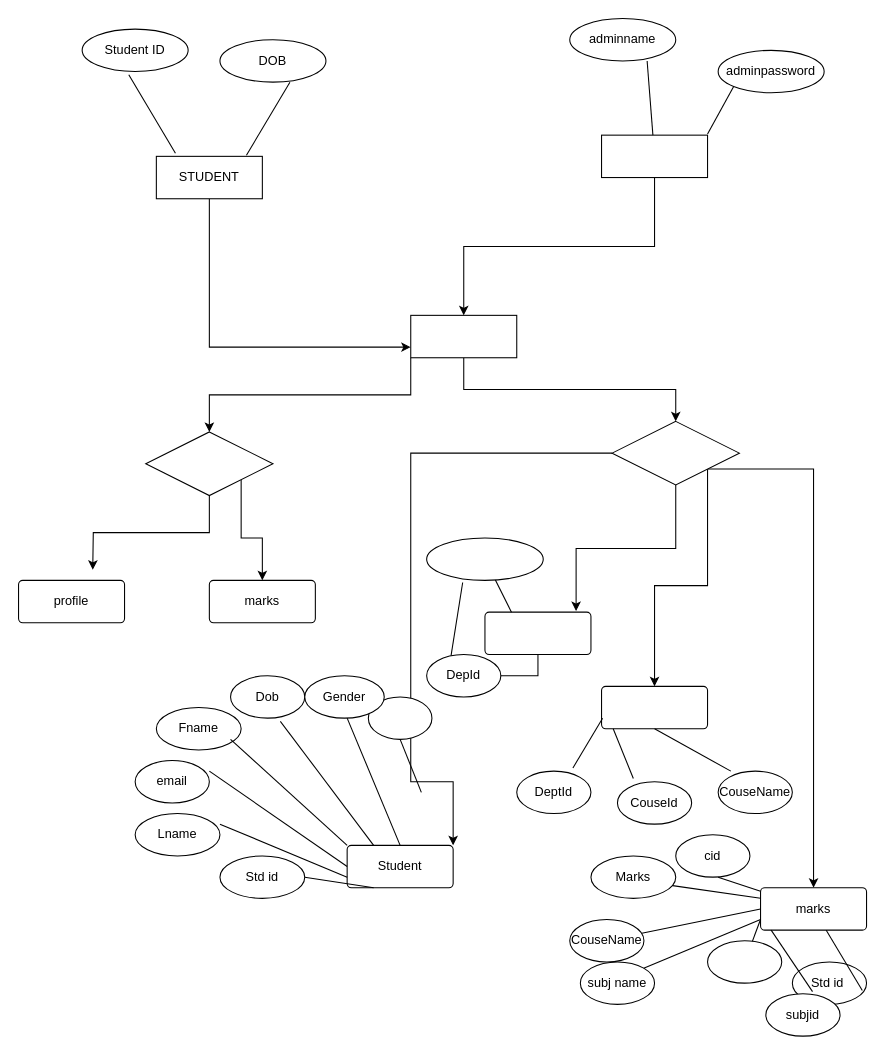
This 885x1055 diagram has some shape labels left out. The shapes that lost their labels are listed below. From the top down, each one's centre as x and y in pixels, then its label:
point (654, 156): ADMIN
point (463, 336): Login
point (209, 463): VIEW
point (675, 452): ADD
point (484, 558): DeparmentName
point (537, 633): Department
point (399, 717): phone
point (654, 707): Course
point (744, 961): Dep
